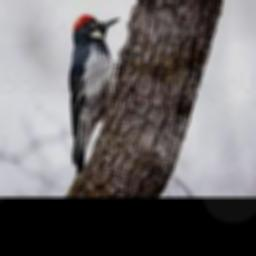Woodpecker: (69, 14, 120, 175)
